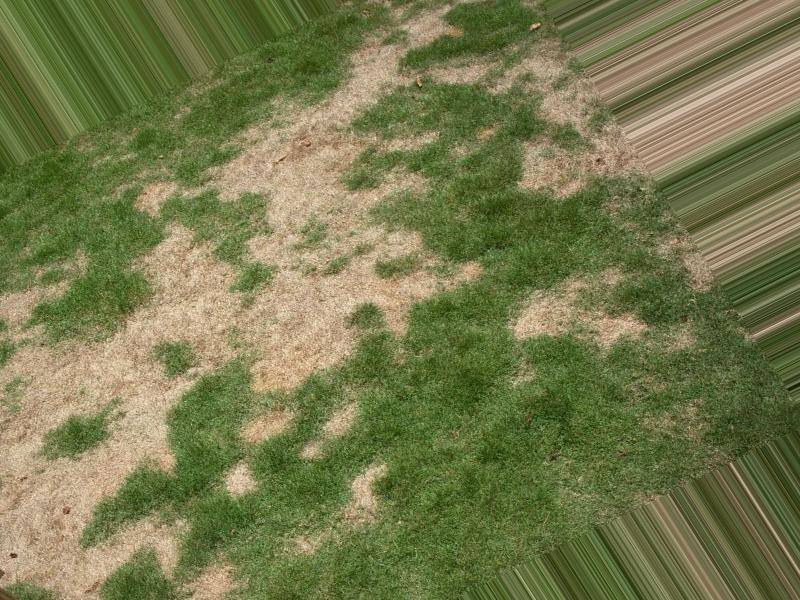patch: (25, 469, 81, 569), (253, 151, 347, 201), (22, 351, 134, 390), (259, 292, 333, 348), (156, 261, 216, 322), (124, 404, 168, 446), (303, 108, 350, 137), (356, 264, 392, 292), (362, 58, 403, 82), (192, 332, 221, 363), (92, 452, 115, 484), (272, 363, 313, 379), (266, 239, 292, 254), (216, 172, 240, 187)
